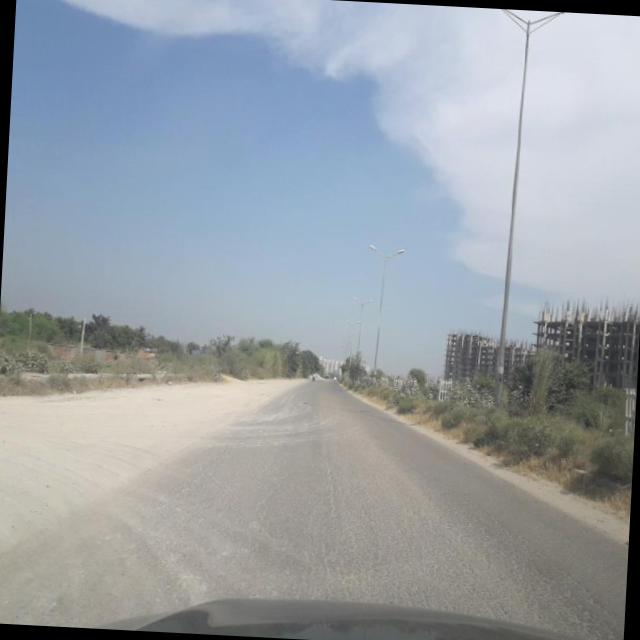crack: (212, 446, 632, 636)
pothole: (300, 422, 370, 520)
